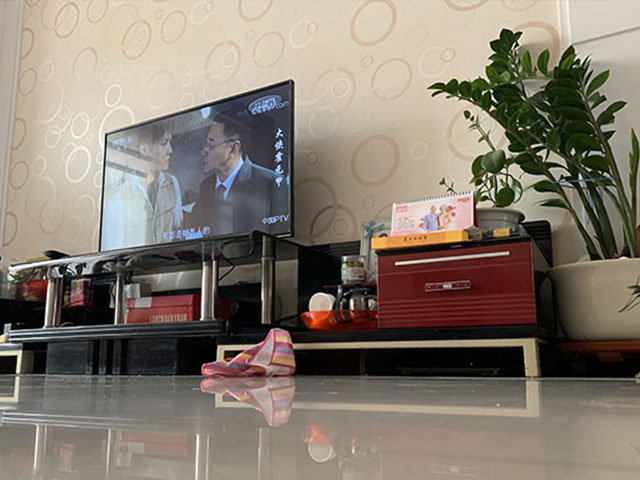cabinet: (5, 219, 549, 381)
